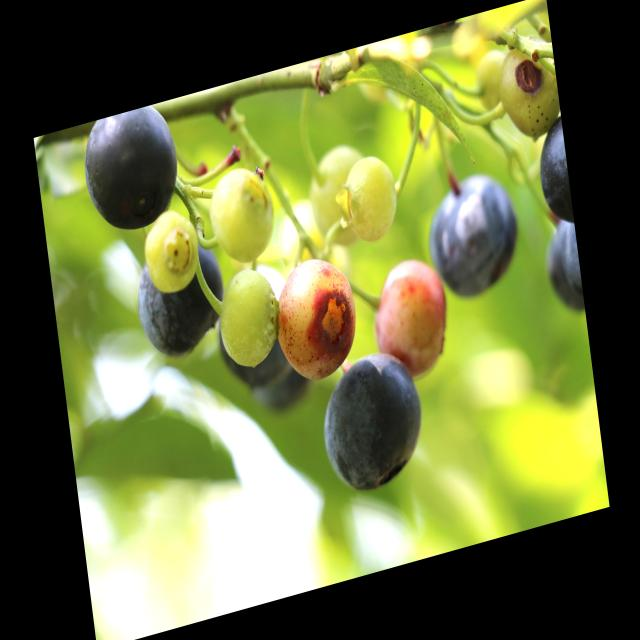blueberry: (312, 336, 433, 509), (417, 153, 529, 311), (74, 99, 186, 243), (128, 233, 233, 370), (529, 101, 574, 230), (536, 212, 585, 324)
blueberry-halfripe: (270, 248, 364, 387), (371, 254, 453, 382)
blueberry-unripe: (207, 158, 284, 274), (210, 256, 282, 374), (491, 35, 562, 141), (308, 141, 364, 251), (343, 149, 401, 246), (140, 208, 203, 294)
